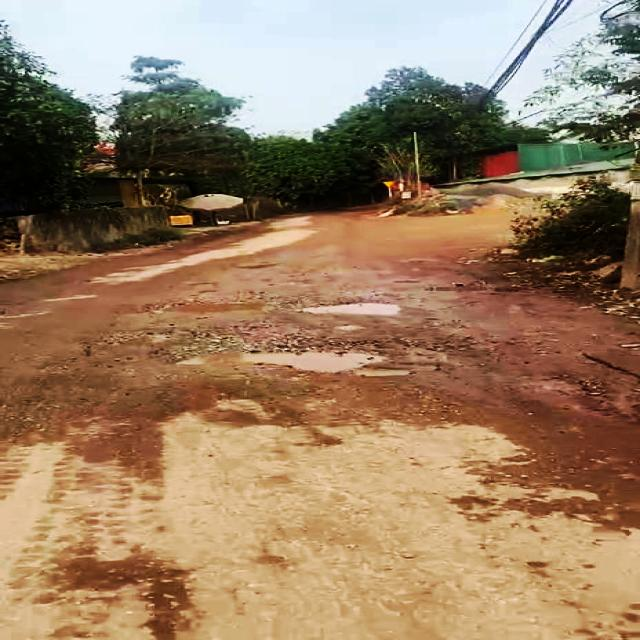pothole: (183, 335, 460, 381), (81, 329, 189, 362), (152, 293, 282, 319), (292, 298, 414, 320)
